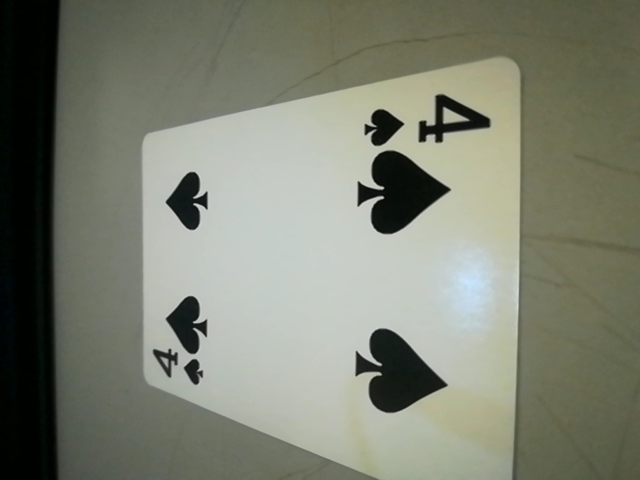ht 4: (357, 89, 500, 155)
